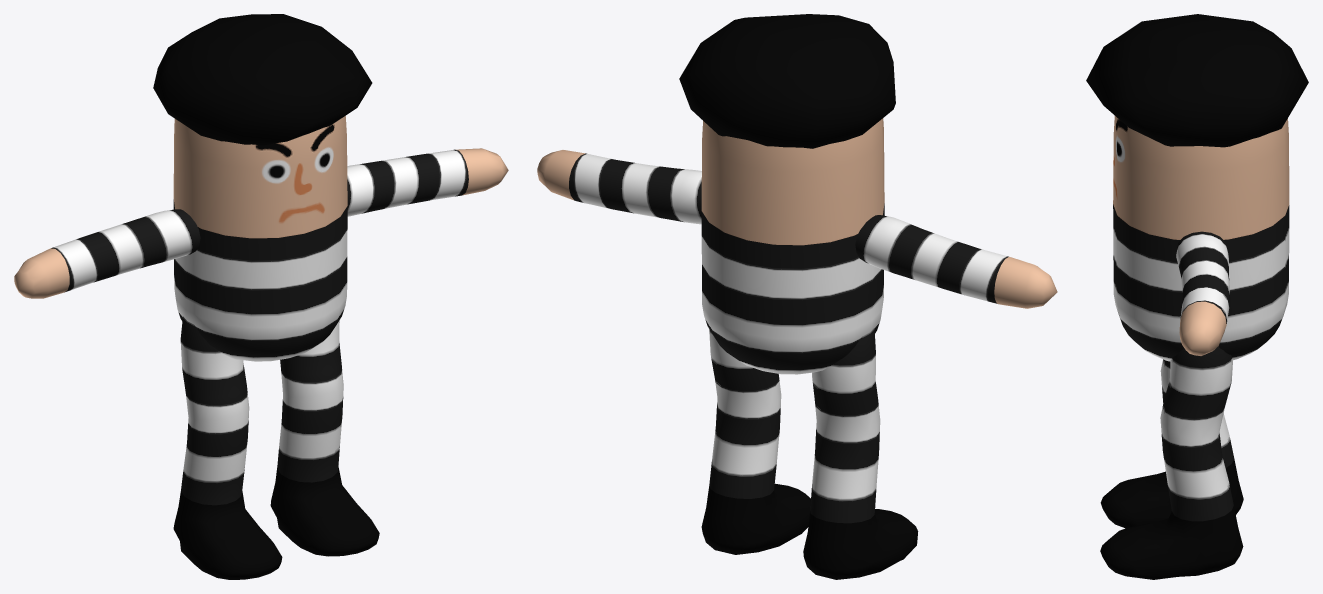
File: SK_Prisoner_02.fbx
3 renders of one model, left to right at view 1: azimuth 30°, elevation 25°; view 2: azimuth 150°, elevation 25°; view 3: azimuth 270°, elevation 25°, orthographic. The views are drawn at different scales.
Visible parts, largest first — view 1: SK_Prisoner_02; view 2: SK_Prisoner_02; view 3: SK_Prisoner_02.
Part boxes in pixels (bbox=[...]): SK_Prisoner_02: bbox=[14, 14, 508, 579]; SK_Prisoner_02: bbox=[537, 14, 1057, 579]; SK_Prisoner_02: bbox=[1086, 14, 1308, 579].
Bounding box in the file's own units: 308 × 302 × 120.
